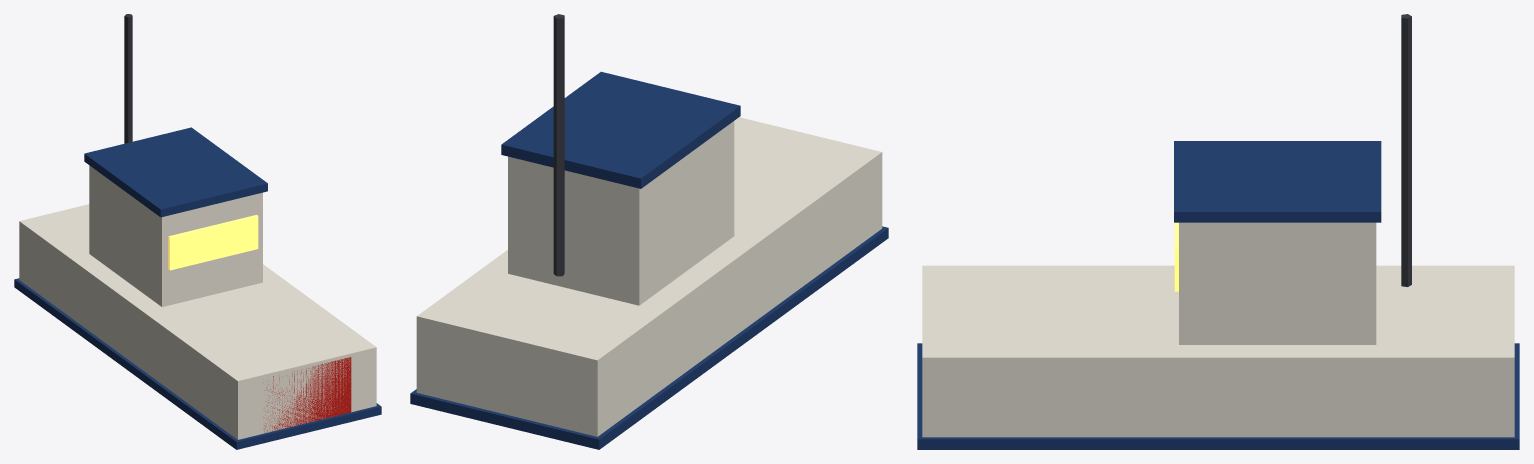
The model's file is fishing_boat.glb.
3 views of the same model, side by side, from view 1: azimuth 30°, elevation 25°; view 2: azimuth 150°, elevation 25°; view 3: azimuth 270°, elevation 25° (orthographic). The views are drawn at different scales.
Visible parts, largest first — view 1: fishing_boat; view 2: fishing_boat; view 3: fishing_boat.
Part boxes in pixels (bbox=[...]): fishing_boat: bbox=[14, 14, 381, 449]; fishing_boat: bbox=[410, 14, 888, 449]; fishing_boat: bbox=[917, 14, 1519, 449].
Size of the model in its own units: 2.3 by 4.31 by 6.1.
